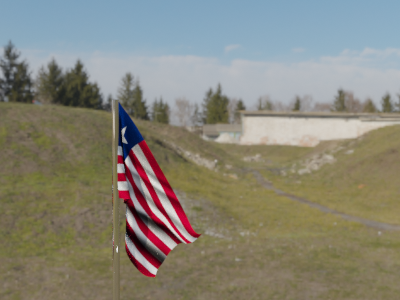Liberia flag: (114, 101, 207, 281)
